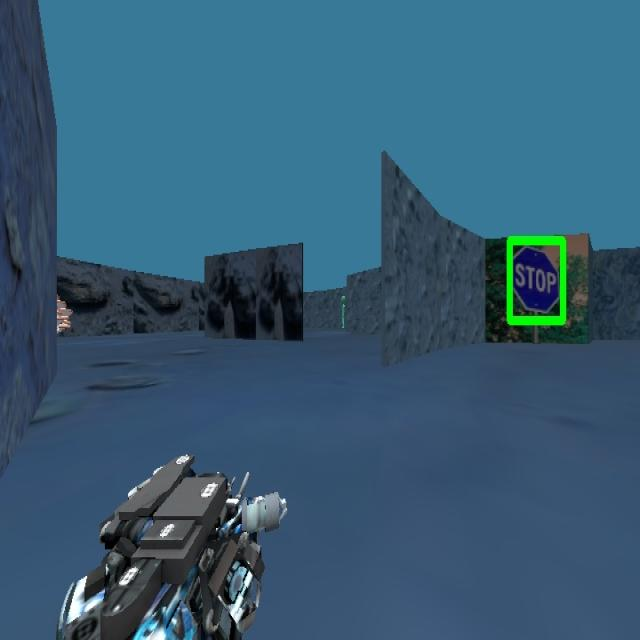Alien: (321, 270, 357, 360)
Mushroom: (42, 281, 76, 344)
Stop_Sign: (504, 233, 566, 327)
